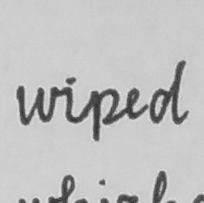d: (148, 58, 191, 128)
e: (124, 86, 147, 121)
i: (60, 74, 79, 126)
p: (86, 86, 122, 144)
w: (14, 82, 59, 128)
